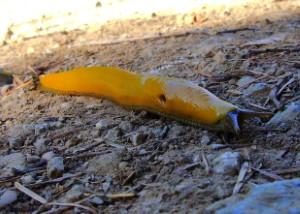slug: (28, 35, 279, 155)
